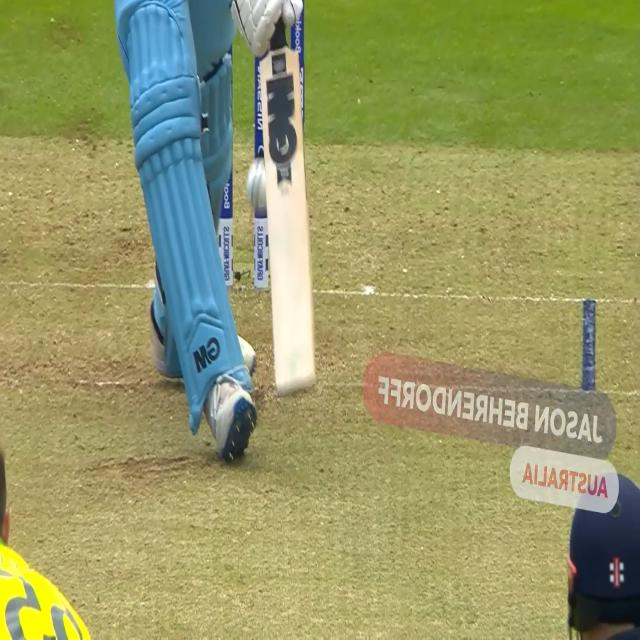ball: (244, 163, 267, 206)
